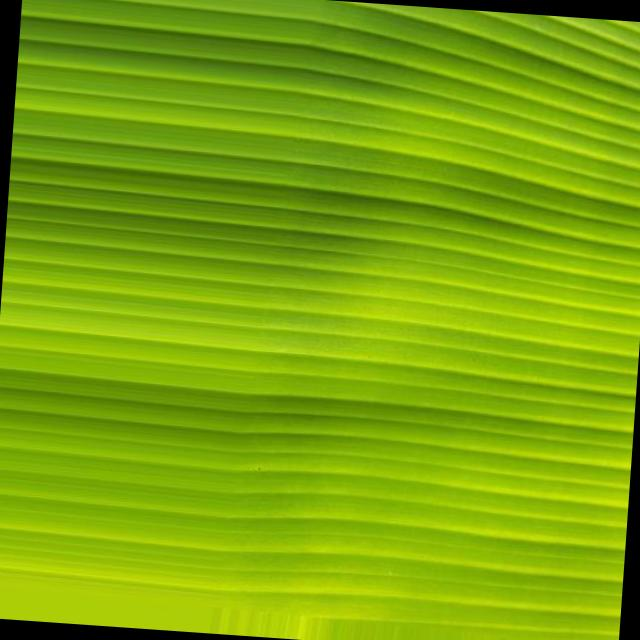Banana_Healthy: (92, 58, 578, 567)
